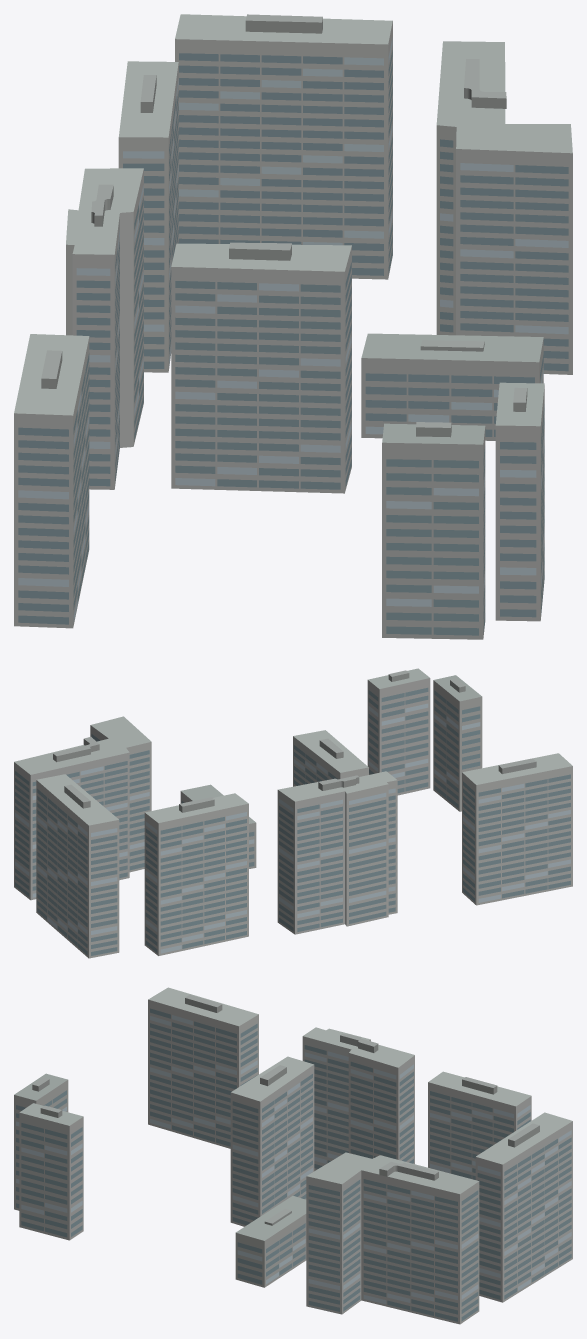
Rendered from apt-a15784008.glb.
3 views of the same model, one above another, from view 1: azimuth 30°, elevation 25°; view 2: azimuth 150°, elevation 25°; view 3: azimuth 270°, elevation 25° (orthographic). The views are drawn at different scales.
Parts seen in each view (by area): view 1: apt-a15784008; view 2: apt-a15784008; view 3: apt-a15784008.
Boxes of the visible parts, x1,y1,x2,y2 form: apt-a15784008: (14,14,572,639); apt-a15784008: (14,668,572,958); apt-a15784008: (14,987,572,1324).
Size of the model in its own units: 167 by 53 by 186.
